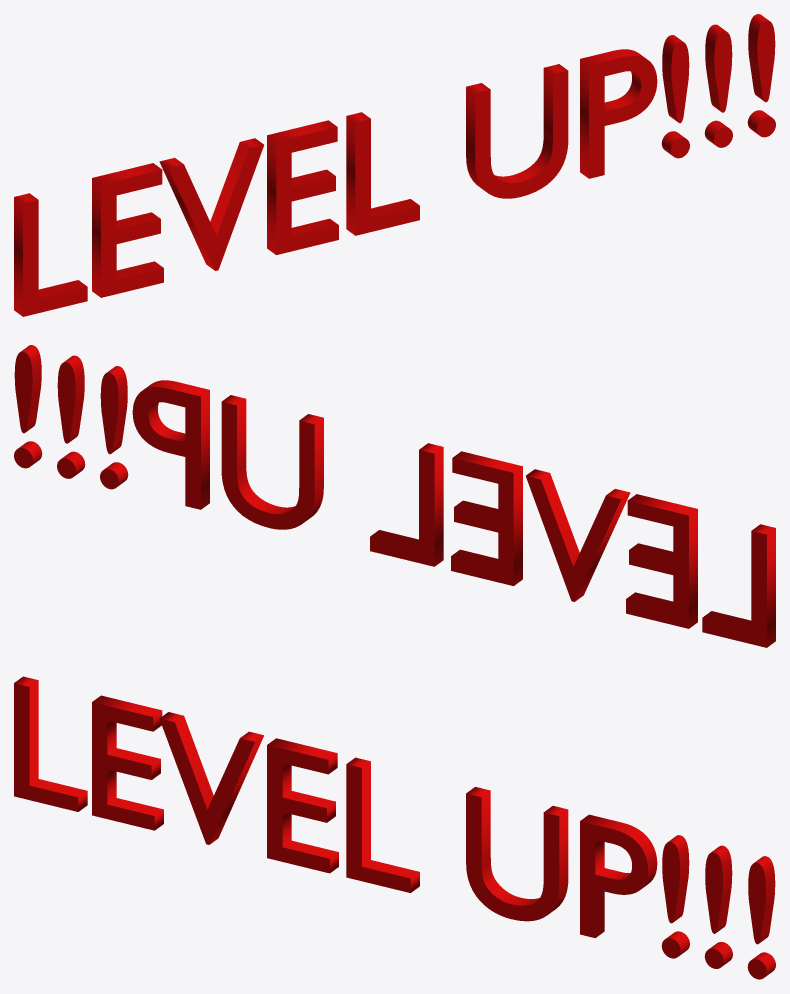
The model's file is LevelUp.obj.
3 views of the same model, one above another, from view 1: azimuth 30°, elevation 25°; view 2: azimuth 150°, elevation 25°; view 3: azimuth 330°, elevation 25° (orthographic).
Parts seen in each view (by area): view 1: テキスト.003; view 2: テキスト.003; view 3: テキスト.003.
Part boxes in pixels (left/top/right/bottom): テキスト.003: left=14, top=14, right=775, bottom=316; テキスト.003: left=14, top=345, right=775, bottom=647; テキスト.003: left=14, top=676, right=775, bottom=979.
Bounding box in the file's own units: 4.74 × 0.7 × 0.1.
Materials: 1 (1 with a texture image).
